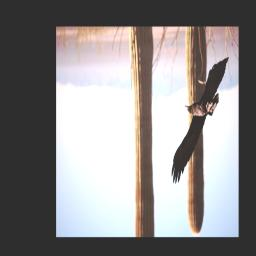Crow: (170, 54, 230, 186)
